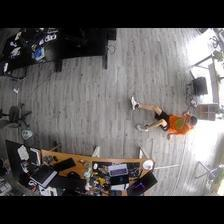fall: (129, 96, 197, 140)
